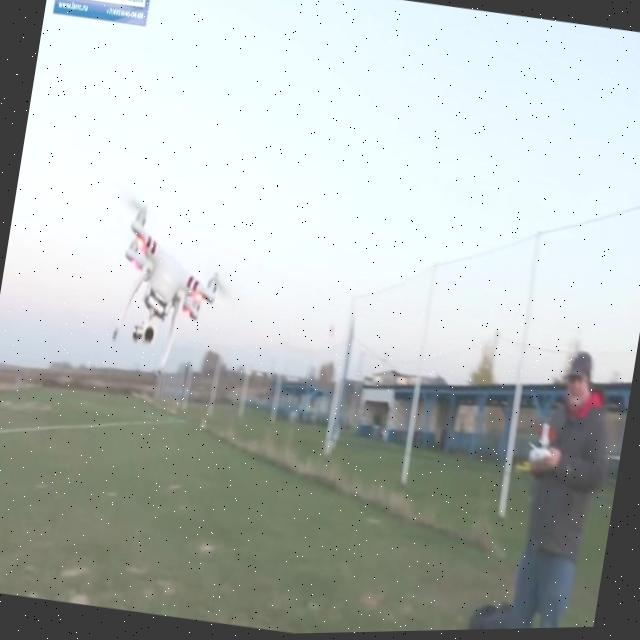drone: (95, 188, 242, 388)
